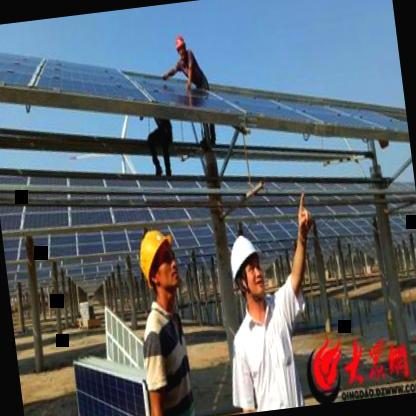helmet: (129, 218, 186, 312), (226, 230, 270, 310), (173, 30, 188, 64)
